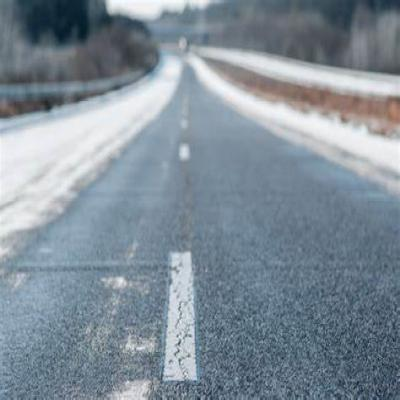iced-road: (0, 65, 400, 400)
